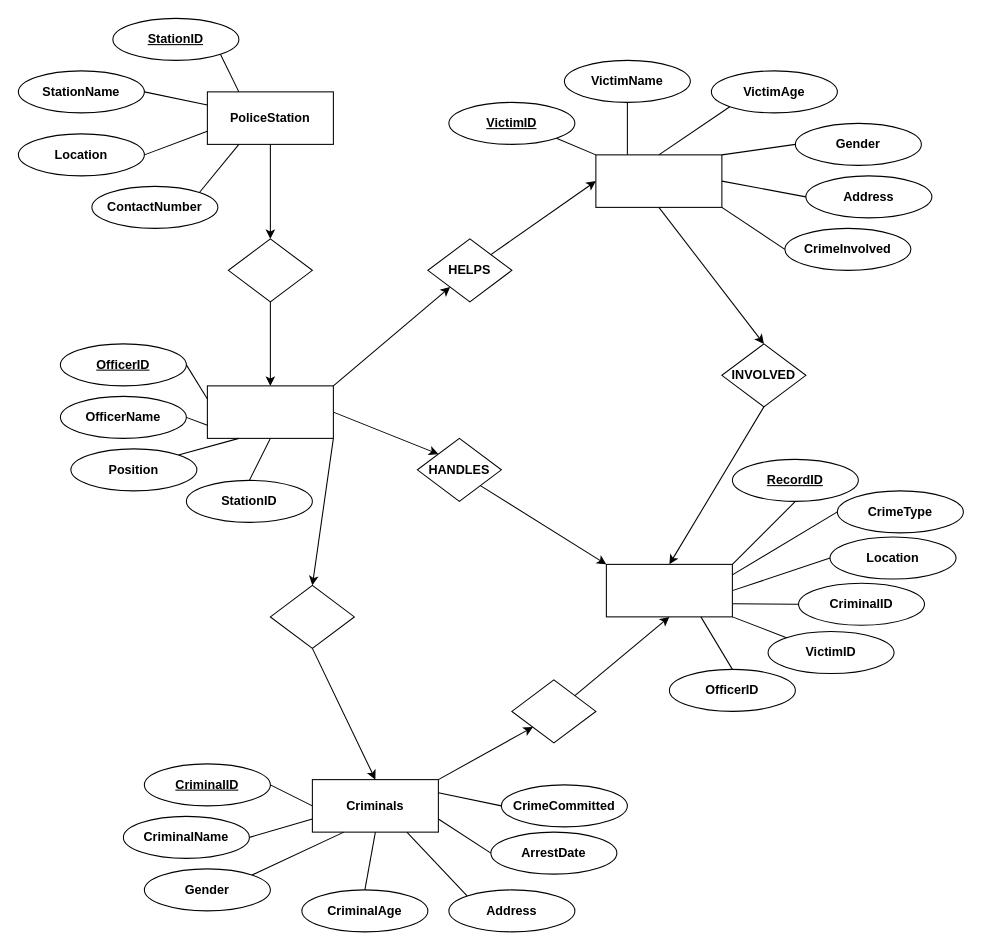
This 982x950 diagram has some shape labels left out. Each missing label, with the centre of its shape:
ARRESTS: (x=311, y=616)
COMMITS: (x=553, y=711)
CriminalRecords: (x=668, y=590)
EMPLOYES: (x=269, y=270)
Officers: (x=269, y=411)
Victims: (x=658, y=180)
